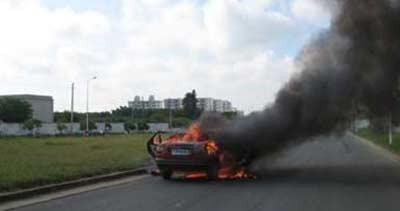smoke: (210, 1, 400, 165)
